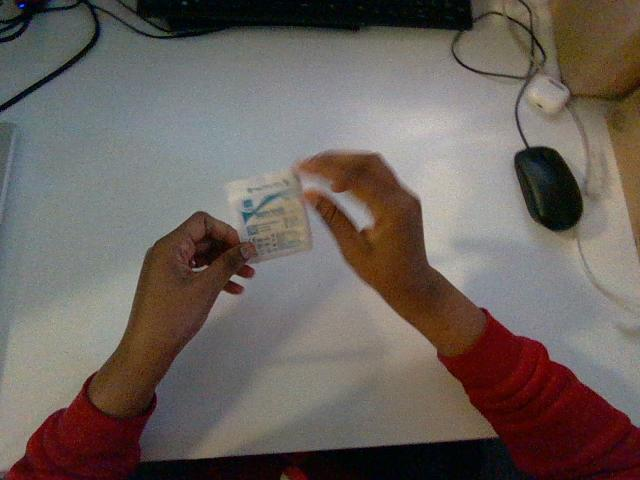gauze: (226, 171, 311, 262)
